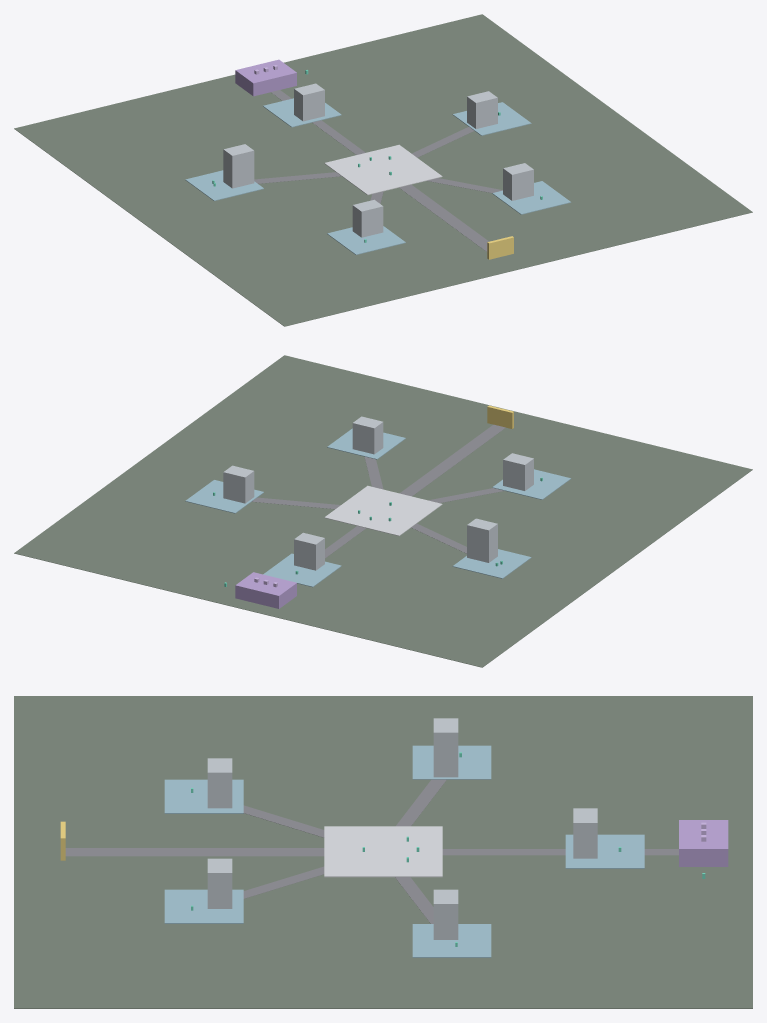
Rendered from autonomous-organizations.glb.
The picture shows the model from 3 angles, top to bottom: view 1: azimuth 30°, elevation 25°; view 2: azimuth 150°, elevation 25°; view 3: azimuth 270°, elevation 25°; orthographic projection. The views are drawn at different scales.
Visible parts, largest first — view 1: ground:autonomous-organizations, plaza:autonomous-organizations/floor, council:autonomous-organizations/chamber, utonomous-organizations/coordination-floor/hall, zone:autonomous-organizations/goal-wall/pad, zone:autonomous-organizations/execution-bay/pad, autonomous-organizations/coordination-floor/pad, road:autonomous-organizations/gate, zone:autonomous-organizations/goal-wall/hall, :autonomous-organizations/assignment-board/hall, one:autonomous-organizations/execution-bay/hall, one:autonomous-organizations/decision-room/hall (+3 smaller); view 2: ground:autonomous-organizations, plaza:autonomous-organizations/floor, council:autonomous-organizations/chamber, road:autonomous-organizations/gate, utonomous-organizations/coordination-floor/hall, e:autonomous-organizations/assignment-board/pad, autonomous-organizations/coordination-floor/pad, zone:autonomous-organizations/decision-room/pad, one:autonomous-organizations/decision-room/hall, one:autonomous-organizations/execution-bay/hall, :autonomous-organizations/assignment-board/hall, zone:autonomous-organizations/goal-wall/hall (+2 smaller); view 3: ground:autonomous-organizations, plaza:autonomous-organizations/floor, road:autonomous-organizations/gate, zone:autonomous-organizations/decision-room/pad, zone:autonomous-organizations/execution-bay/pad, council:autonomous-organizations/chamber, e:autonomous-organizations/assignment-board/pad, zone:autonomous-organizations/goal-wall/pad, autonomous-organizations/coordination-floor/pad, utonomous-organizations/coordination-floor/hall, zone:autonomous-organizations/goal-wall/hall, one:autonomous-organizations/decision-room/hall (+7 smaller).
Part boxes in pixels (<box>): ground:autonomous-organizations: <box>14,14,752,326</box>; plaza:autonomous-organizations/floor: <box>324,144,442,195</box>; council:autonomous-organizations/chamber: <box>235,59,296,96</box>; utonomous-organizations/coordination-floor/hall: <box>223,144,254,188</box>; zone:autonomous-organizations/goal-wall/pad: <box>327,226,405,254</box>; zone:autonomous-organizations/execution-bay/pad: <box>492,181,571,214</box>; autonomous-organizations/coordination-floor/pad: <box>185,170,263,201</box>; road:autonomous-organizations/gate: <box>399,184,488,251</box>; zone:autonomous-organizations/goal-wall/hall: <box>352,199,383,237</box>; :autonomous-organizations/assignment-board/hall: <box>294,83,324,121</box>; one:autonomous-organizations/execution-bay/hall: <box>503,163,533,200</box>; one:autonomous-organizations/decision-room/hall: <box>467,91,497,128</box>; ground:autonomous-organizations: <box>14,355,752,667</box>; plaza:autonomous-organizations/floor: <box>324,485,442,536</box>; council:autonomous-organizations/chamber: <box>235,572,296,608</box>; road:autonomous-organizations/gate: <box>399,424,505,496</box>; utonomous-organizations/coordination-floor/hall: <box>467,518,497,562</box>; e:autonomous-organizations/assignment-board/pad: <box>263,553,341,587</box>; autonomous-organizations/coordination-floor/pad: <box>452,549,531,578</box>; zone:autonomous-organizations/decision-room/pad: <box>185,480,263,513</box>; one:autonomous-organizations/decision-room/hall: <box>223,465,254,503</box>; one:autonomous-organizations/execution-bay/hall: <box>352,416,383,454</box>; :autonomous-organizations/assignment-board/hall: <box>294,532,324,570</box>; zone:autonomous-organizations/goal-wall/hall: <box>503,453,533,490</box>; ground:autonomous-organizations: <box>14,696,752,1008</box>; plaza:autonomous-organizations/floor: <box>324,826,442,877</box>; road:autonomous-organizations/gate: <box>65,848,324,856</box>; zone:autonomous-organizations/decision-room/pad: <box>412,924,491,957</box>; zone:autonomous-organizations/execution-bay/pad: <box>164,889,243,923</box>; council:autonomous-organizations/chamber: <box>679,820,728,866</box>; e:autonomous-organizations/assignment-board/pad: <box>565,834,644,868</box>; zone:autonomous-organizations/goal-wall/pad: <box>164,779,243,813</box>; autonomous-organizations/coordination-floor/pad: <box>412,745,491,779</box>; utonomous-organizations/coordination-floor/hall: <box>433,718,458,777</box>; zone:autonomous-organizations/goal-wall/hall: <box>207,758,232,808</box>; one:autonomous-organizations/decision-room/hall: <box>433,889,458,939</box>.
Size of the model in its own units: 300 by 20.6 by 300.
